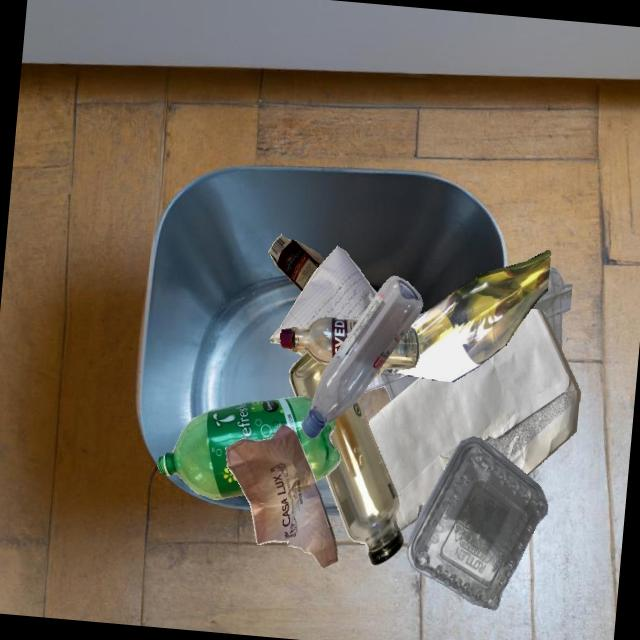cardboard: (268, 234, 324, 291)
glass: (387, 250, 551, 382), (325, 398, 403, 565), (279, 317, 358, 365), (379, 326, 419, 369)
paper: (367, 308, 580, 532), (225, 424, 338, 568), (270, 246, 376, 343), (305, 330, 384, 368)
plastic: (406, 436, 548, 610), (301, 275, 423, 437), (157, 396, 340, 499), (371, 316, 561, 381)
